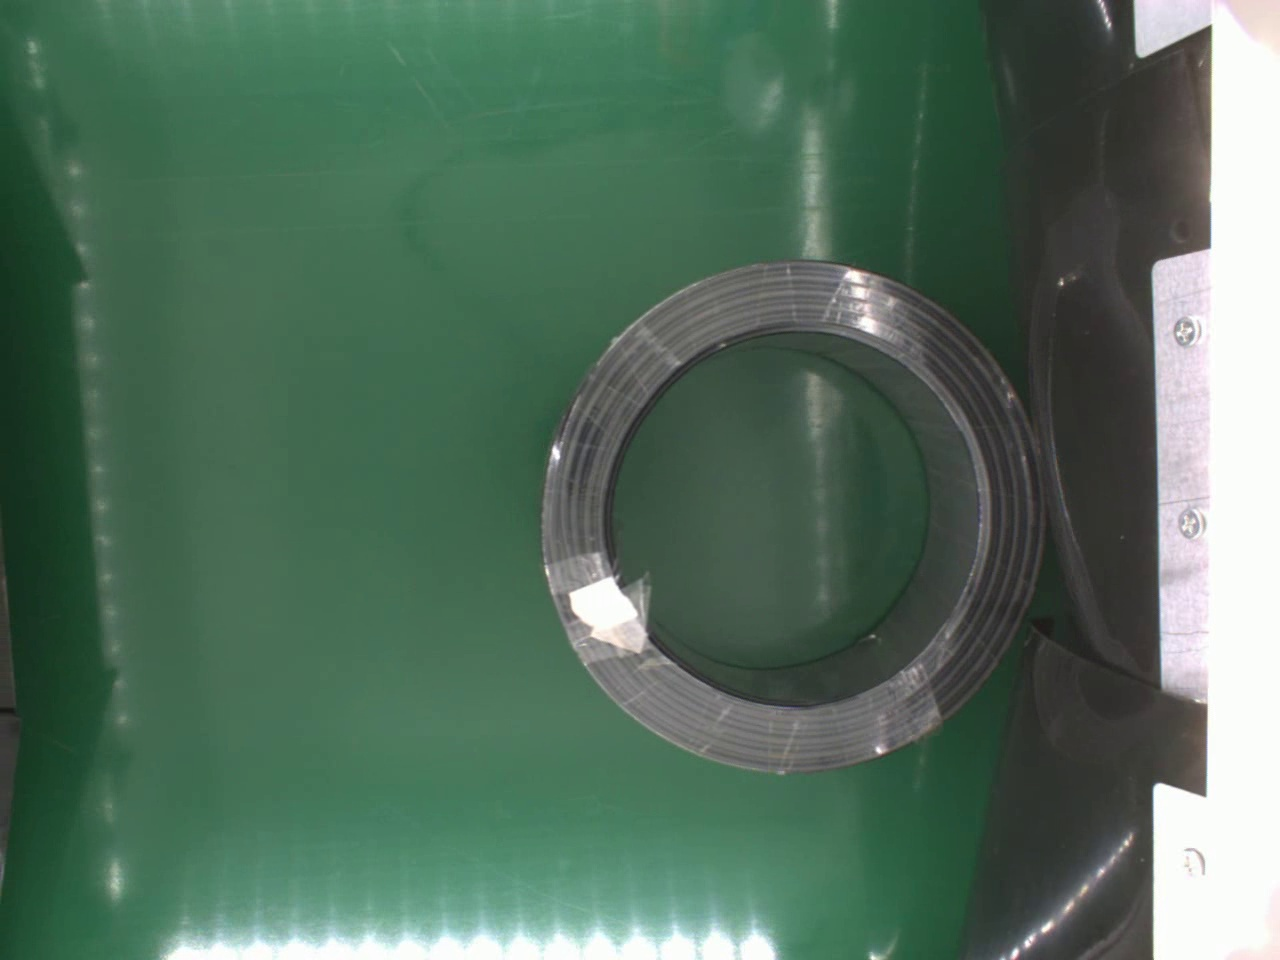black: (539, 257, 1039, 774)
